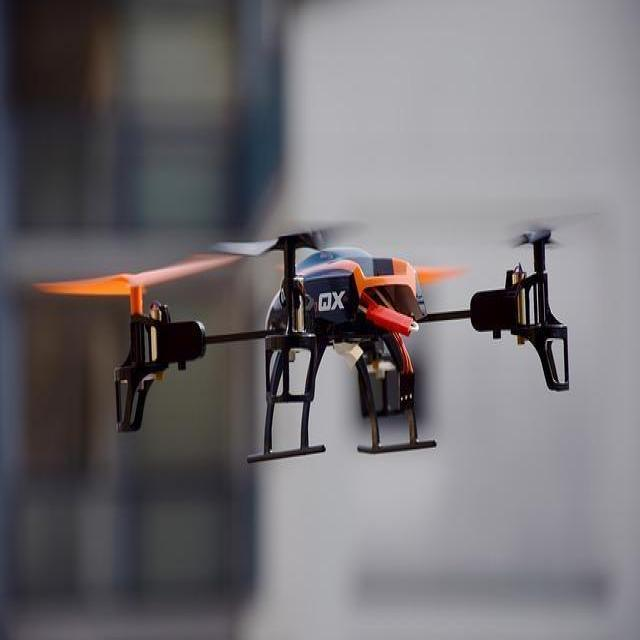drone: (111, 219, 573, 468)
